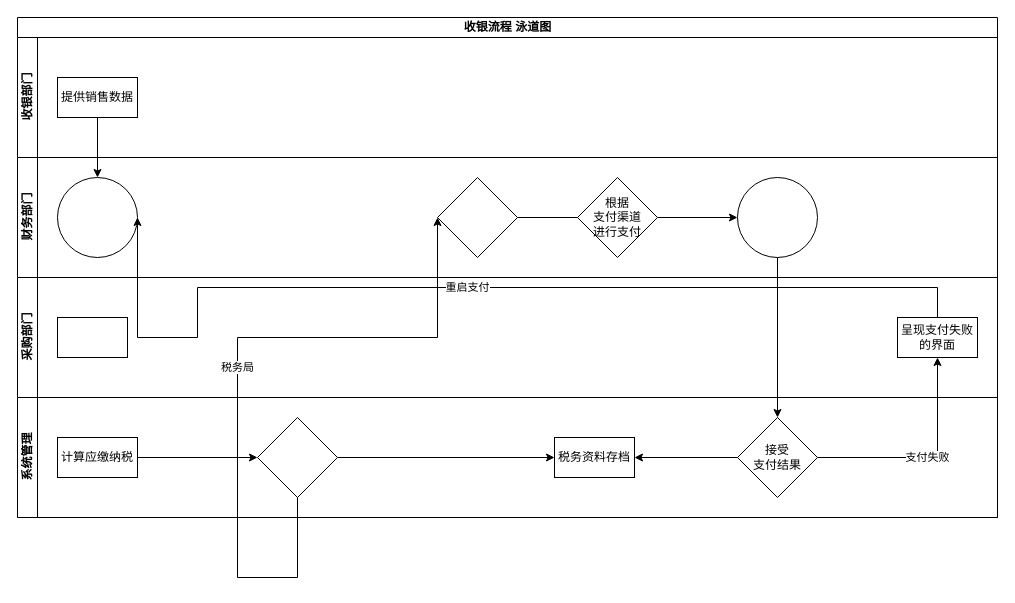
This 1015x603 diagram has some shape labels left out. The shapes that lost their labels are listed below. From the top down, each one's centre as x and y in pixels, then its label:
At point 97,217: "开始税务处理".
At point 477,217: "税务申报".
At point 777,217: "缴纳税款".
At point 92,337: "收集采购数据".
At point 297,457: "数据审核".
